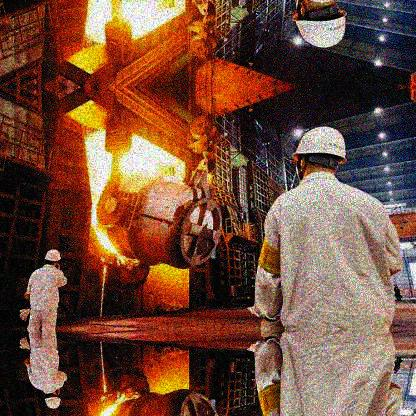helmet: (290, 128, 347, 179), (291, 1, 349, 51), (45, 248, 62, 267), (45, 392, 62, 409)
